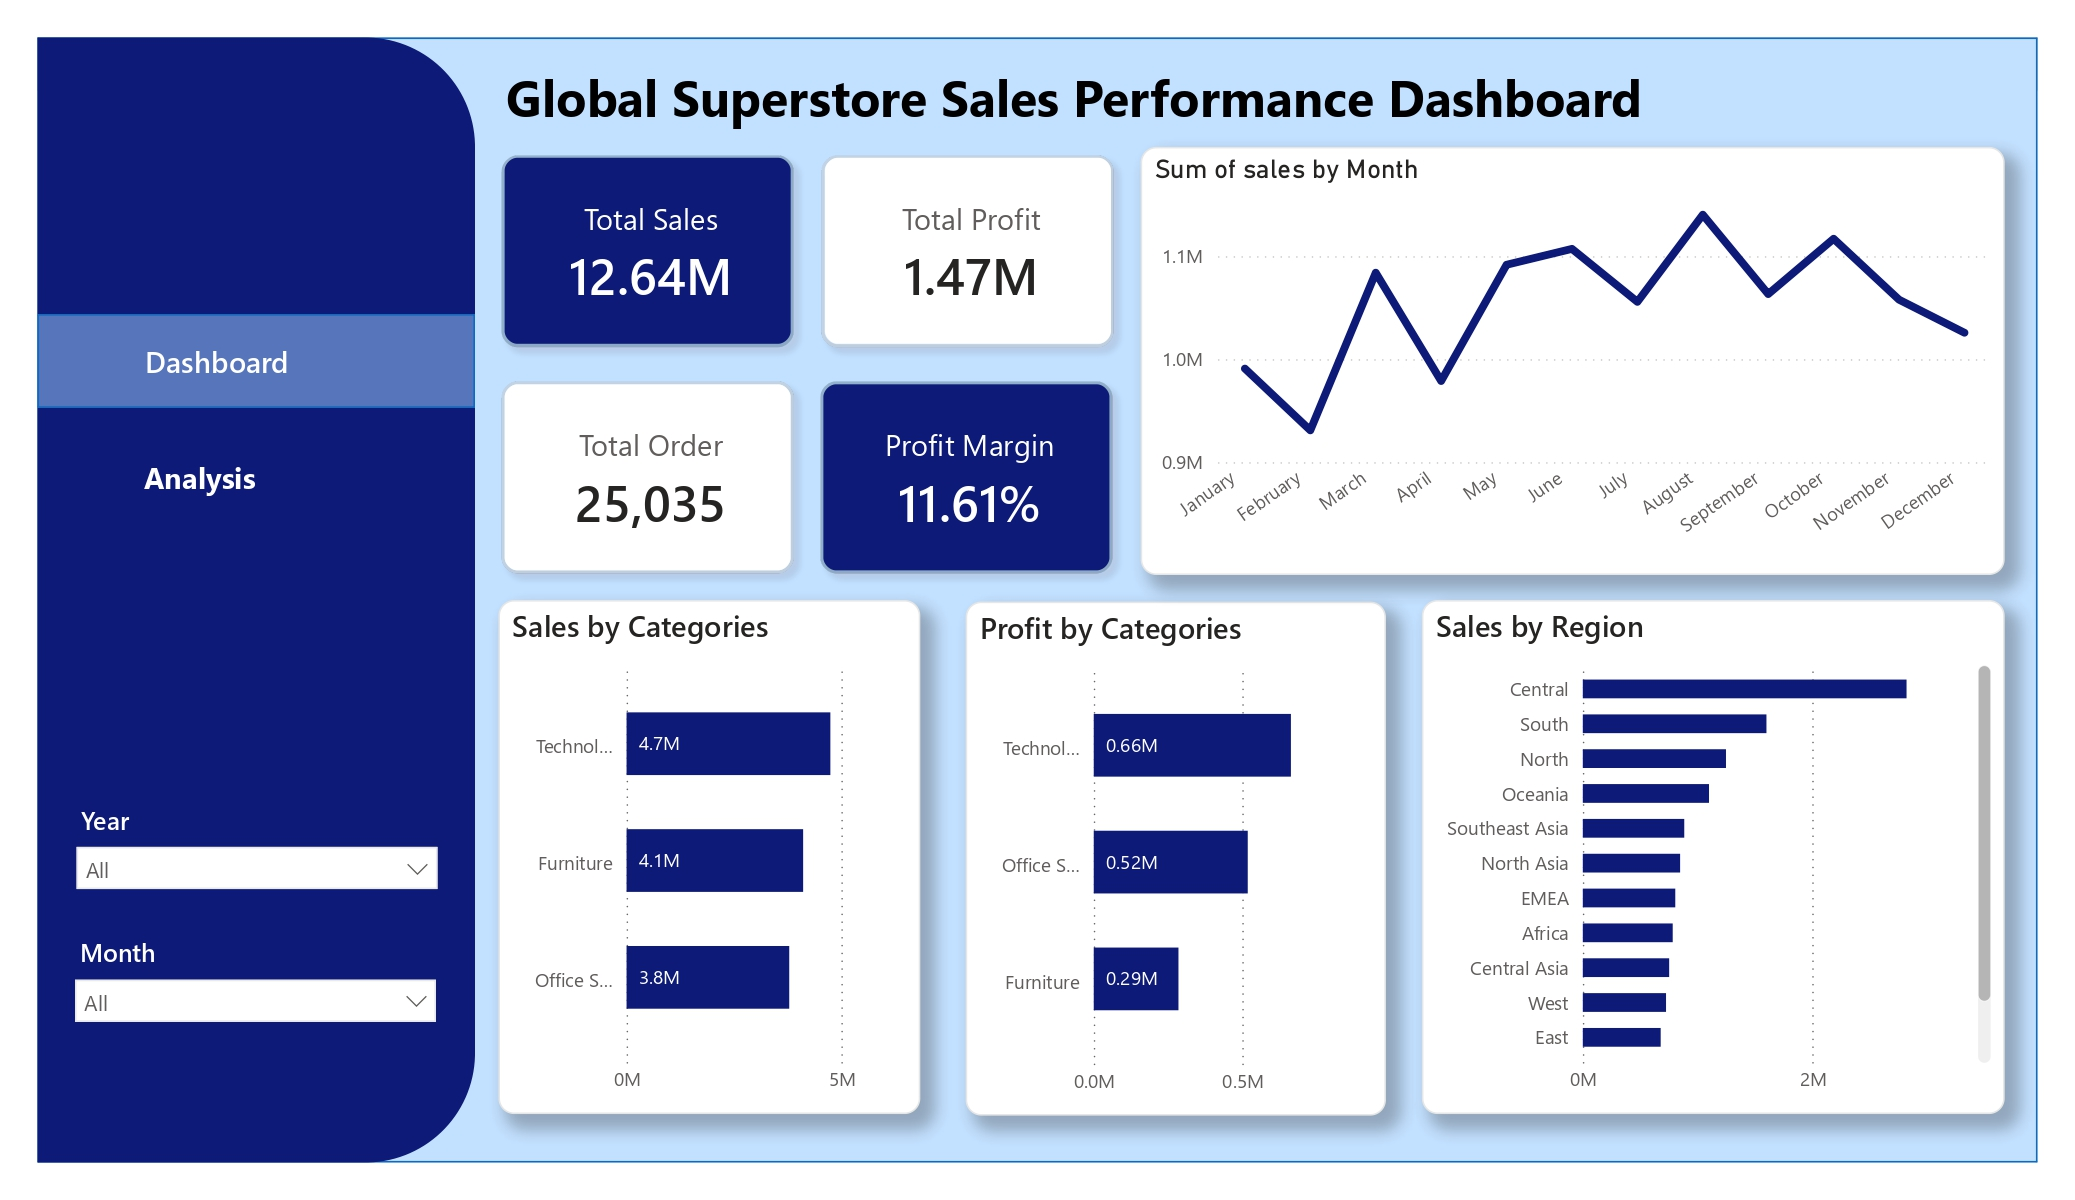

What the dashboard file says about the page in this screenshot:
{"tool":"powerbi","page":{"name":"Executiv Overview","canvas":[1280,720],"ordinal":0},"visuals":[{"type":"shape","box":[0,0,279.9,720.4],"z":0},{"type":"shape","box":[295,57.6,212.7,140],"z":1000,"group":"g1"},{"type":"textbox","box":[295,9.6,377.4,48],"z":2000},{"type":"shape","box":[550.3,57.6,212.7,140],"z":3000,"group":"g2"},{"type":"shape","box":[802.7,57.6,212.7,140],"z":4000,"group":"g3"},{"type":"shape","box":[1045.6,57.6,212.7,140],"z":5000,"group":"g4"},{"type":"cardVisual","title":"Sales","fields":{"Data":["Sum(public sales.sales)"]},"box":[319.7,76.8,163.3,104.3],"z":6000,"group":"g1"},{"type":"cardVisual","title":"Sales","fields":{"Data":["Sum(public sales.profit)"]},"box":[575,76.8,163.3,104.3],"z":7000,"group":"g2"},{"type":"cardVisual","title":"Sales","fields":{"Data":["Count(public sales.order_id)"]},"box":[820.5,76.8,177,104.3],"z":8000,"group":"g3"},{"type":"cardVisual","title":"Sales","fields":{"Data":["public sales.Profit Margin %"]},"box":[1066.2,75.4,171.5,104.3],"z":9000,"group":"g4"},{"type":"shape","box":[295,197.6,467.9,284],"z":10000},{"type":"shape","box":[790.4,197.6,467.9,284],"z":10001},{"type":"shape","box":[295,492.6,963.3,227.8],"z":10002},{"type":"barChart","title":"Profit by Category","fields":{"Category":["public sales.category"],"Y":["Sum(public sales.sales)"]},"box":[333.4,227.8,393.8,225],"z":10003},{"type":"lineChart","fields":{"Category":["public sales.order_date"],"Y":["Sum(public sales.sales)"]},"box":[865.9,211.3,299.1,299.1],"z":10004},{"type":"group","id":"g1","title":"Group 1","box":[295,57.6,212.7,140],"z":10005},{"type":"group","id":"g2","title":"Group 2","box":[550.3,57.6,212.7,140],"z":10006},{"type":"group","id":"g3","title":"Group 3","box":[802.7,57.6,212.7,140],"z":10007},{"type":"group","id":"g4","title":"Group 4","box":[1045.6,57.6,212.7,140],"z":10008}]}

Visuals, with their boxes on the page's 1280x720 design canvas (x1, y1, x2, y2). These are canvas units, not pixel positions in the 2075x1200 screenshot, which may show the page scaled, cropped or inside an application window:
shape: {"left": 0, "top": 0, "right": 280, "bottom": 720}
shape: {"left": 295, "top": 58, "right": 508, "bottom": 198}
textbox: {"left": 295, "top": 10, "right": 672, "bottom": 58}
shape: {"left": 550, "top": 58, "right": 763, "bottom": 198}
shape: {"left": 803, "top": 58, "right": 1015, "bottom": 198}
shape: {"left": 1046, "top": 58, "right": 1258, "bottom": 198}
"Sales" cardVisual: {"left": 320, "top": 77, "right": 483, "bottom": 181}
"Sales" cardVisual: {"left": 575, "top": 77, "right": 738, "bottom": 181}
"Sales" cardVisual: {"left": 820, "top": 77, "right": 998, "bottom": 181}
"Sales" cardVisual: {"left": 1066, "top": 75, "right": 1238, "bottom": 180}
shape: {"left": 295, "top": 198, "right": 763, "bottom": 482}
shape: {"left": 790, "top": 198, "right": 1258, "bottom": 482}
shape: {"left": 295, "top": 493, "right": 1258, "bottom": 720}
"Profit by Category" barChart: {"left": 333, "top": 228, "right": 727, "bottom": 453}
lineChart - public sales.order_date x Sum(public sales.sales): {"left": 866, "top": 211, "right": 1165, "bottom": 510}
"Group 1" group: {"left": 295, "top": 58, "right": 508, "bottom": 198}
"Group 2" group: {"left": 550, "top": 58, "right": 763, "bottom": 198}
"Group 3" group: {"left": 803, "top": 58, "right": 1015, "bottom": 198}
"Group 4" group: {"left": 1046, "top": 58, "right": 1258, "bottom": 198}
